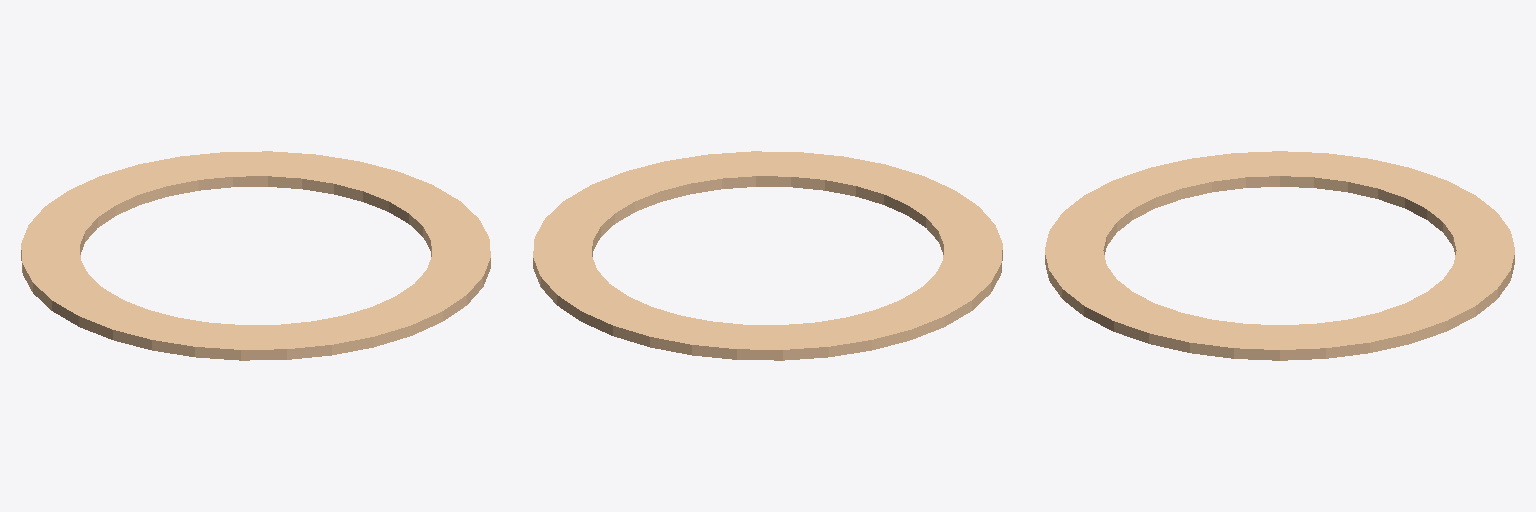
Rendered from Pipe.obj.
3 views of the same model, side by side, from view 1: azimuth 30°, elevation 25°; view 2: azimuth 150°, elevation 25°; view 3: azimuth 270°, elevation 25° (orthographic).
Visible parts, largest first — view 1: Pipe; view 2: Pipe; view 3: Pipe.
Boxes of the visible parts, box(x1,y1,x2,y2) form: Pipe: box(21, 151, 490, 360); Pipe: box(533, 151, 1002, 360); Pipe: box(1045, 151, 1514, 360).
Size of the model in its own units: 4 by 0.1 by 4.